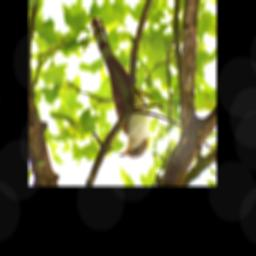Cuckoo: (90, 15, 151, 158)
